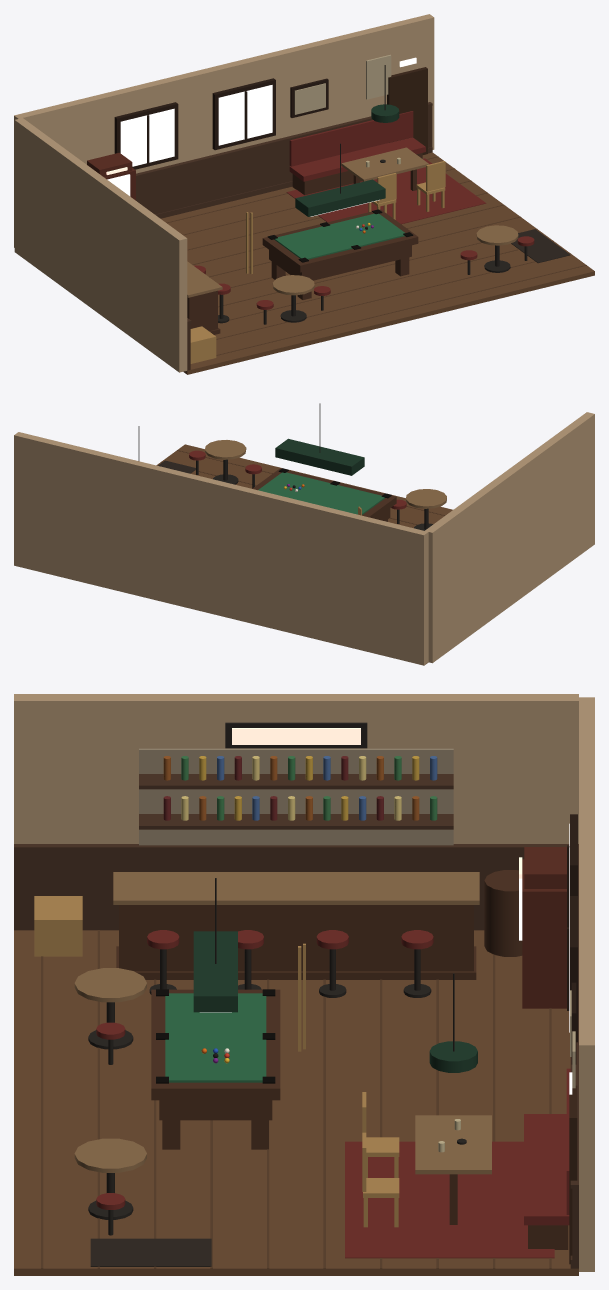
Rendered from bar.glb.
3 views of the same model, one above another, from view 1: azimuth 30°, elevation 25°; view 2: azimuth 150°, elevation 25°; view 3: azimuth 270°, elevation 25° (orthographic). The views are drawn at different scales.
Parts seen in each view (by area): view 1: piso, parede_o, parede_n, lambril_n, tapete_fundo, banco_encosto, bilhar_feltro, vidro_5_4, vidro_3_0, bilhar_moldura, porta_fundos, cupula_bilhar (+21 smaller); view 2: parede_n, parede_o, piso, bilhar_feltro, cupula_bilhar, bilhar_moldura, mesa_redonda_tampo_8_3, mesa_redonda_tampo_3_3; view 3: piso, parede_o, balcao_frente, espelho, tapete_fundo, lambril_o, balcao_tampo, parede_n, bilhar_feltro, jukebox_corpo, bilhar_moldura, banco_assento (+21 smaller).
Boxes of the visible parts, box(x1,y1,x2,y2) form: piso: box(161, 152, 594, 374); parede_o: box(14, 118, 187, 372); parede_n: box(14, 14, 434, 247); lambril_n: box(136, 106, 432, 214); tapete_fundo: box(286, 158, 486, 224); banco_encosto: box(289, 111, 413, 166); bilhar_feltro: box(274, 213, 404, 259); vidro_5_4: box(218, 85, 272, 145); vidro_3_0: box(120, 108, 174, 166); bilhar_moldura: box(262, 209, 418, 272); porta_fundos: box(387, 67, 427, 154); cupula_bilhar: box(295, 179, 385, 216); parede_n: box(14, 432, 428, 665); parede_o: box(425, 412, 594, 663); piso: box(156, 444, 452, 665); bilhar_feltro: box(258, 472, 384, 514); cupula_bilhar: box(275, 438, 364, 475); bilhar_moldura: box(252, 468, 396, 518); mesa_redonda_tampo_8_3: box(205, 440, 246, 459); mesa_redonda_tampo_3_3: box(406, 489, 446, 508); piso: box(14, 930, 578, 1275); parede_o: box(14, 694, 578, 843); balcao_frente: box(119, 905, 473, 971); espelho: box(139, 748, 453, 845); tapete_fundo: box(345, 1141, 554, 1258); lambril_o: box(14, 851, 524, 930); balcao_tampo: box(113, 872, 479, 904); parede_n: box(579, 697, 594, 1271); bilhar_feltro: box(165, 993, 266, 1082); jukebox_corpo: box(522, 859, 566, 1008); bilhar_moldura: box(151, 989, 280, 1100); banco_assento: box(524, 1114, 569, 1225).
Size of the model in its own units: 10.3 by 3.2 by 7.2.
